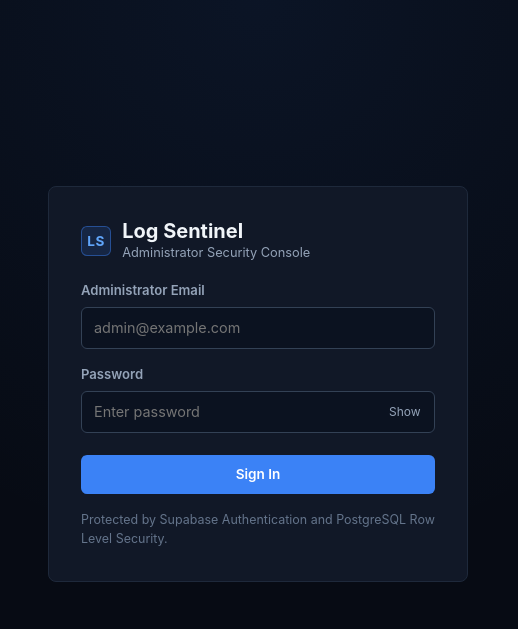
Test: Phase 7 Auth, Protected Routes, and SOC Layout › redirects unauthenticated users to login and validates login inputs
expect the heading "Log Sentinel" is shown: met, box 122,219 -> 243,243
expect the button "Sign In" is shown: met, box 81,455 -> 435,494
Step 1. Type "invalid-email" into the field labelled "Administrator Email" → (258, 328), box 81,307 -> 435,349
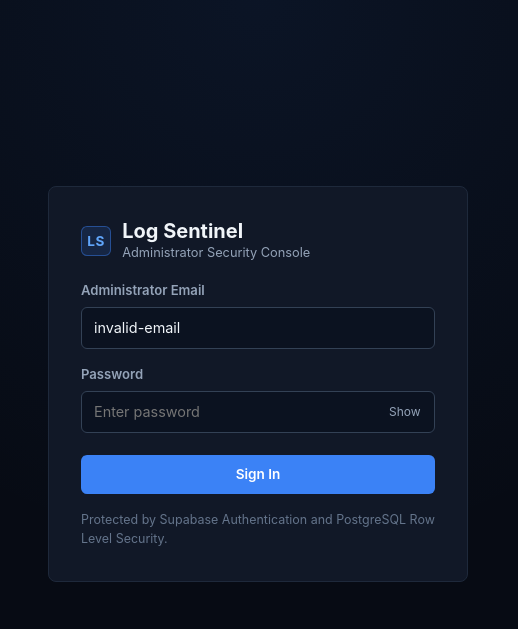
Step 2. Click the button "Sign In" → (258, 474), box 81,455 -> 435,494
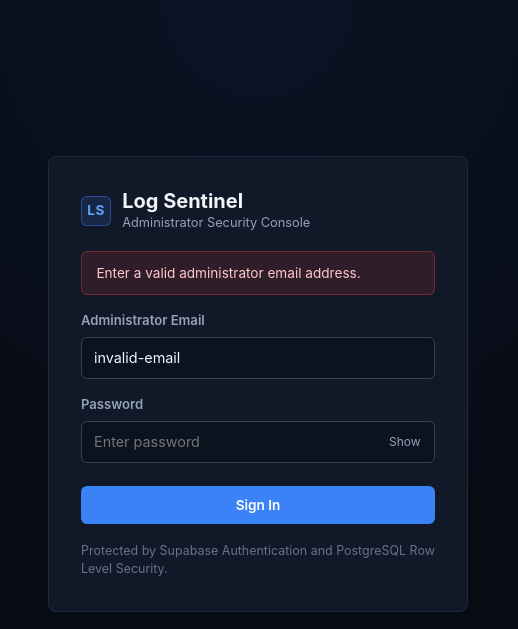
expect the message shows "valid administrator email": met, box 96,265 -> 361,281
